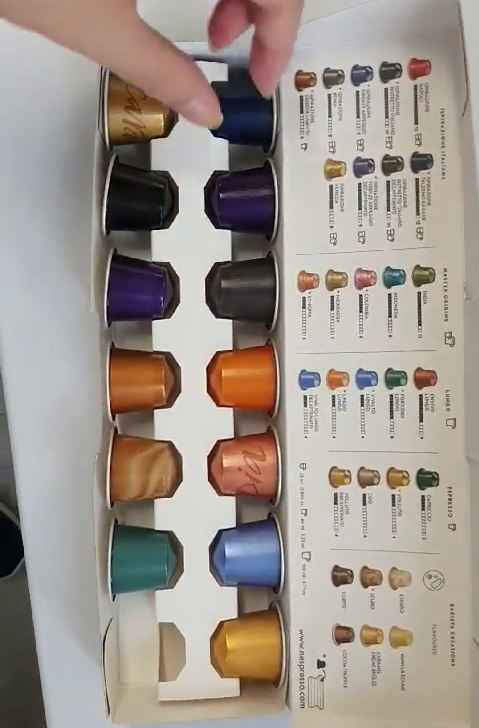capsule_2: (208, 158, 283, 248)
